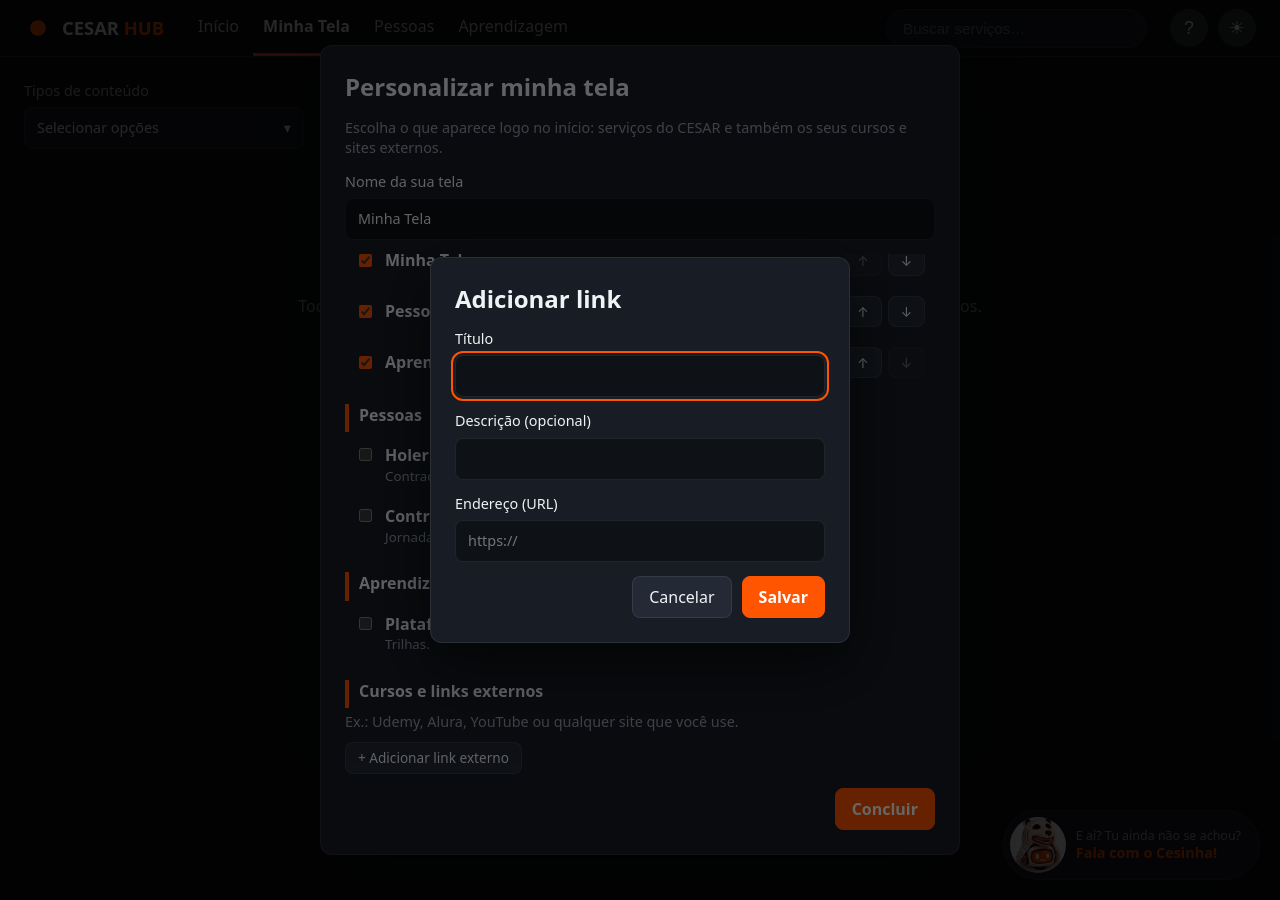
Scenario: App › recusa link com endereço perigoso e mostra o erro
The image size is (1280, 900).
Earlier steps of the test are not shown.
(page scrolled)
Type "Mal" into the field labelled "Título".
click(640, 376); type("Mal")  # box [455, 355, 825, 397]
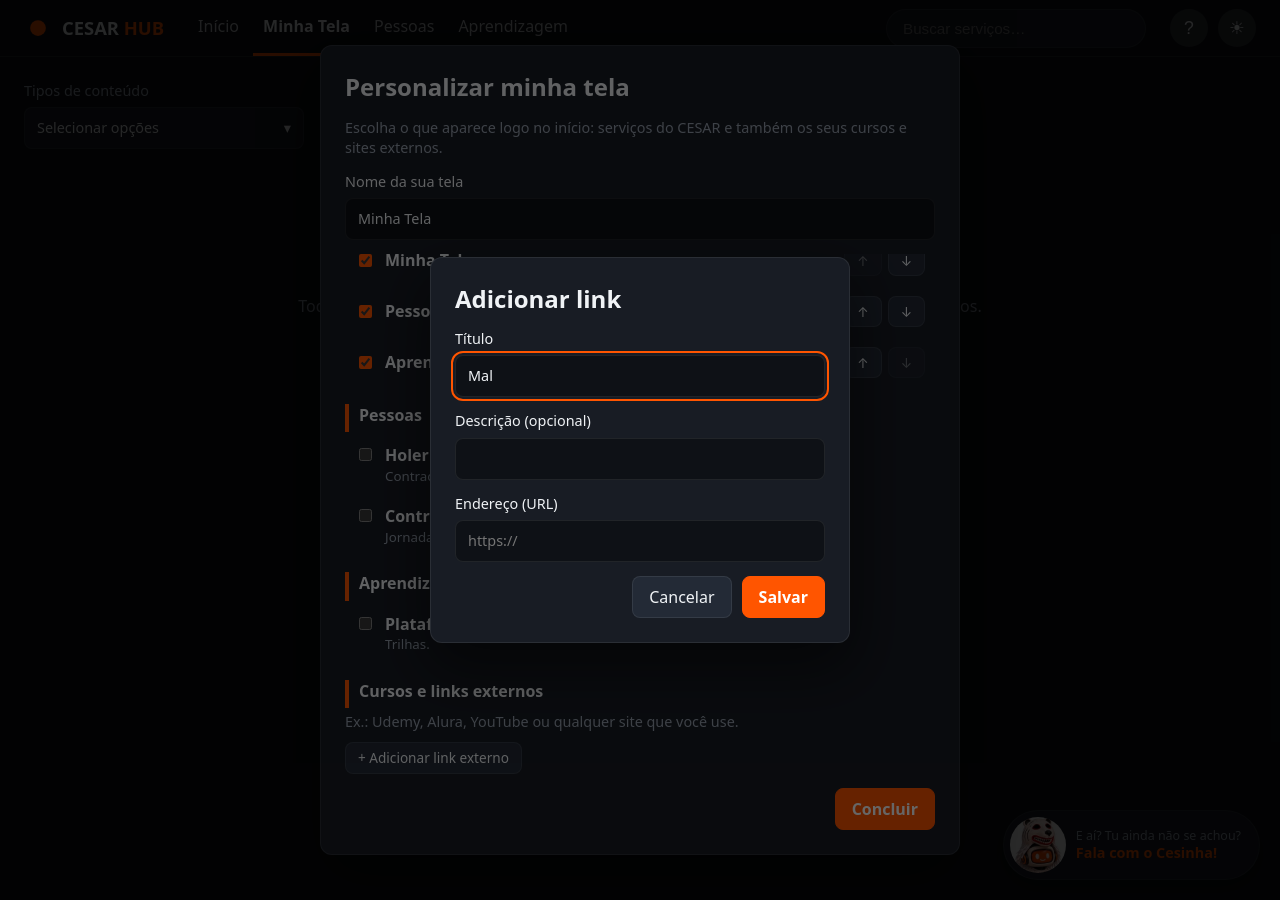
Type "javascript:alert(1)" into the field labelled "Endereço (URL)".
click(640, 541); type("javascript:alert(1)")  # box [455, 520, 825, 562]
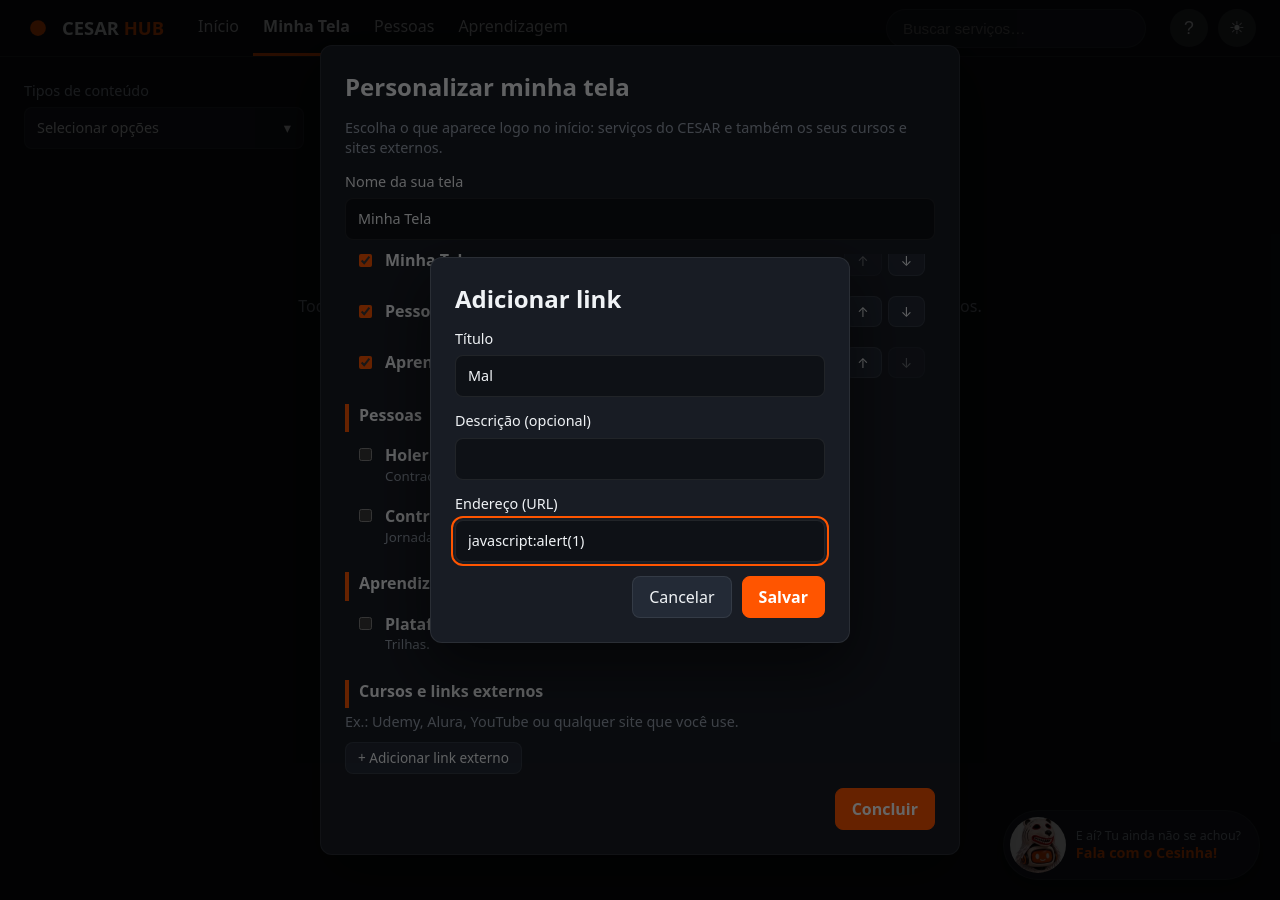
Click the button "Salvar".
click(783, 597)  # box [742, 576, 825, 618]
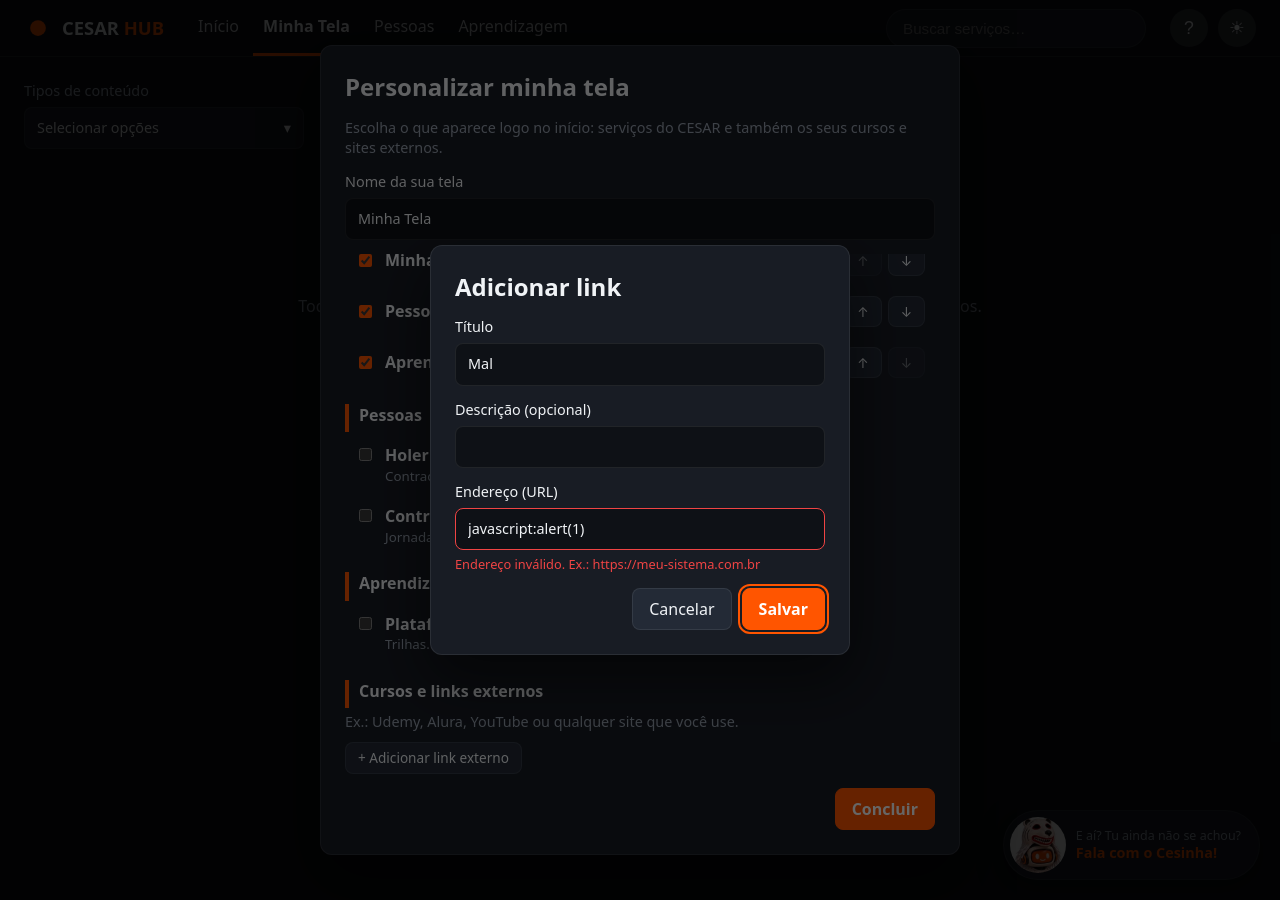
Check: the text "Endereço inválido. Ex.: https://meu-sistema.com.br" is shown, box [455, 555, 760, 573]
